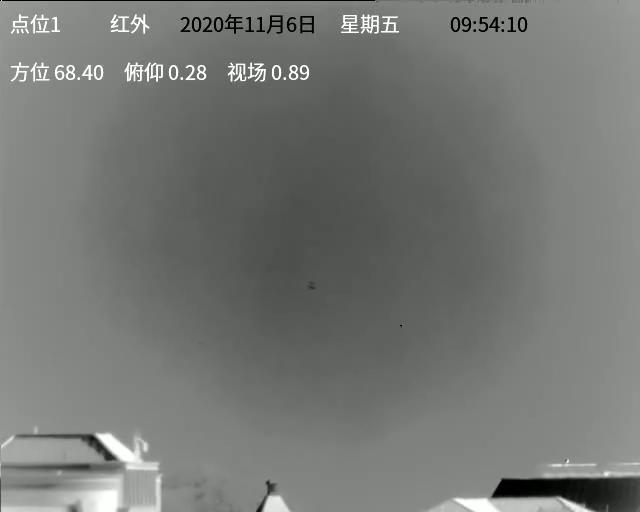uav: (306, 280, 318, 291)
